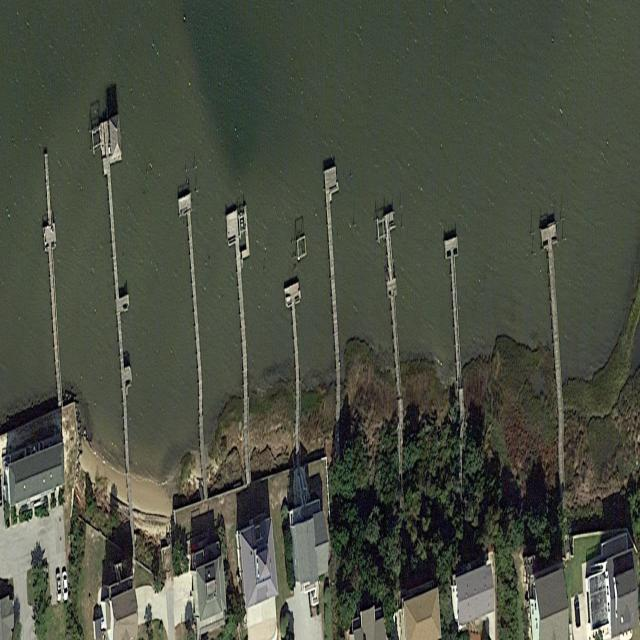small-vehicle: (574, 597, 581, 629), (56, 572, 63, 602), (62, 572, 69, 602)
